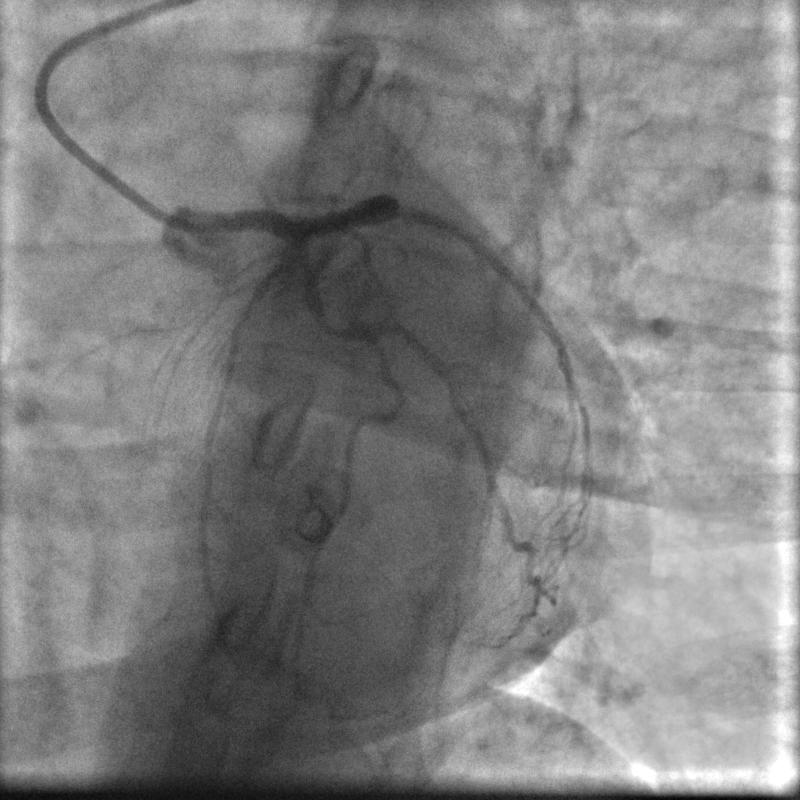Stenosis: (314, 303, 359, 343)
